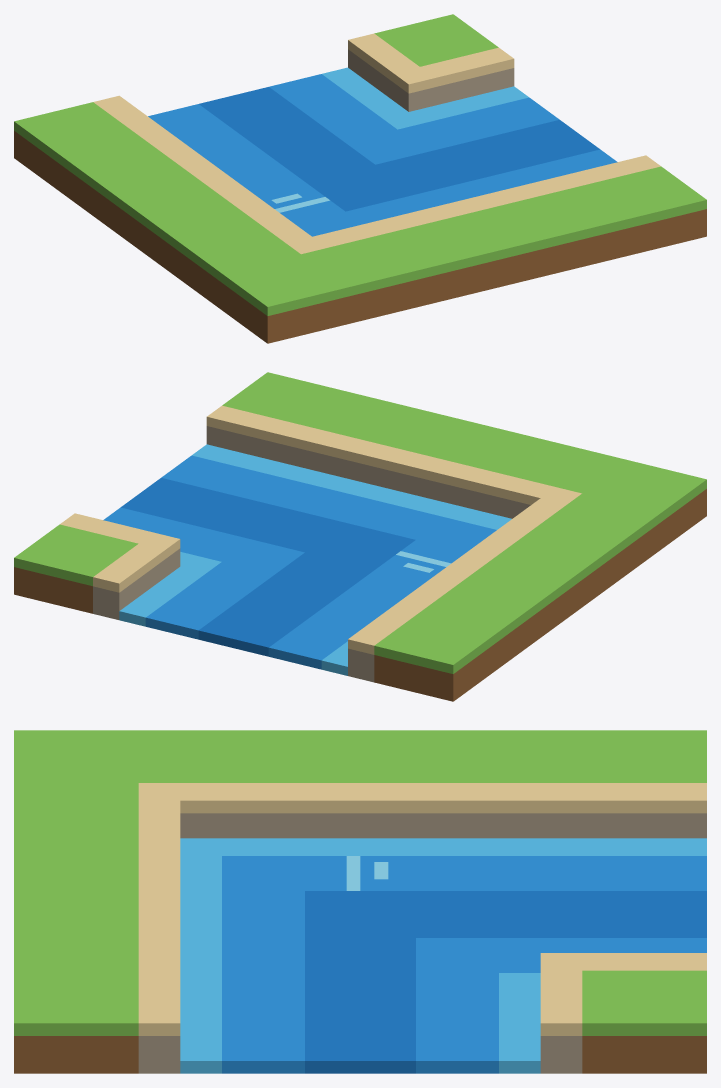
File: river_corner_b.glb
The picture shows the model from 3 angles, top to bottom: view 1: azimuth 30°, elevation 25°; view 2: azimuth 150°, elevation 25°; view 3: azimuth 270°, elevation 25°; orthographic projection. The views are drawn at different scales.
Parts seen in each view (by area): view 1: model_0; view 2: model_0; view 3: model_0.
Boxes of the visible parts, left/top/right/bottom form: model_0: left=14, top=14, right=706, bottom=343; model_0: left=14, top=372, right=706, bottom=701; model_0: left=14, top=730, right=706, bottom=1073.
Size of the model in its own units: 2 by 0.16 by 2.
